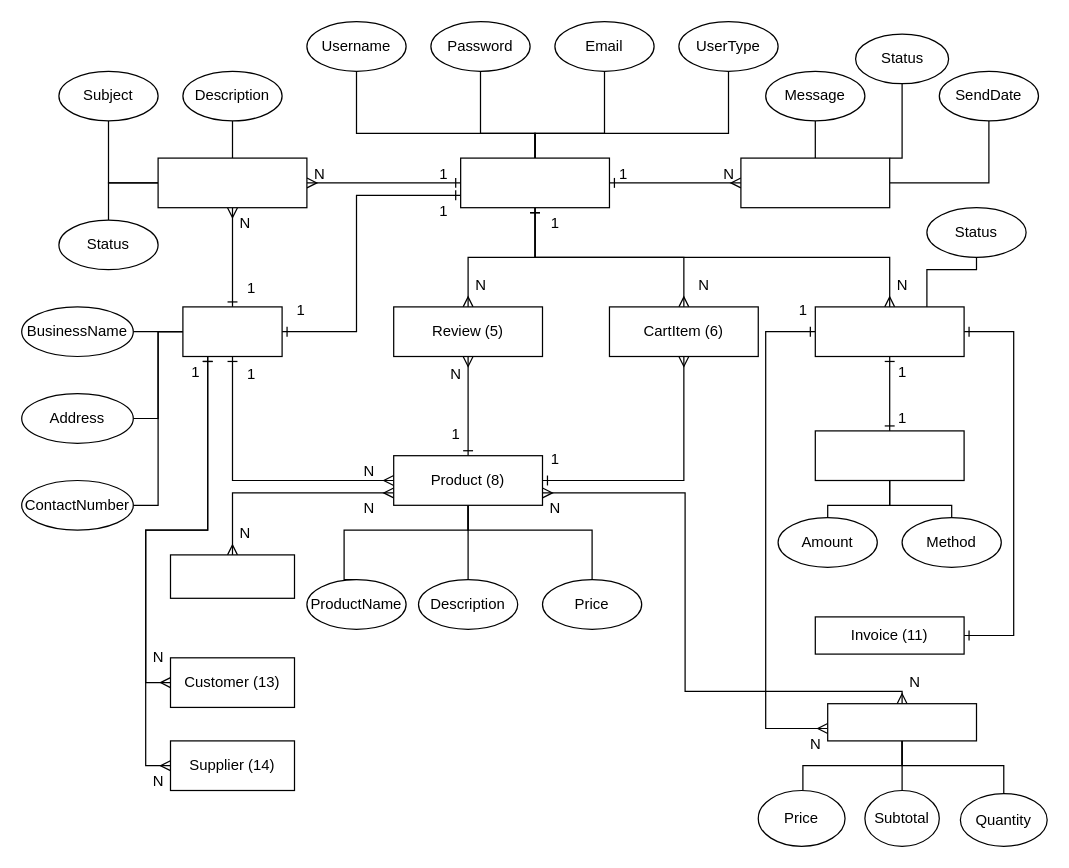
Image size: 1069x868. Some labels were removed from this diagram. Each missing label, with the box of its shape:
Business (4): (182, 306, 282, 356)
Notification (3): (740, 157, 890, 208)
Order (7): (814, 306, 964, 356)
OrderItem (12): (826, 702, 976, 741)
Payment (9): (814, 430, 964, 480)
Promotion (10): (169, 554, 294, 598)
SupportTicket (1): (157, 157, 307, 208)
User (2): (459, 157, 609, 208)
